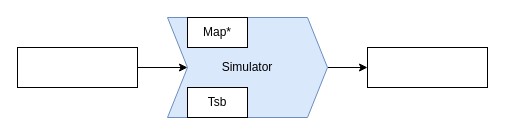
Image size: 505x135. Some labels were removed from this diagram. The centre of each missing label's shape, as x and y in pixels:
"Poses" belongs at [77,67].
"SensorData" belongs at [427,67].
